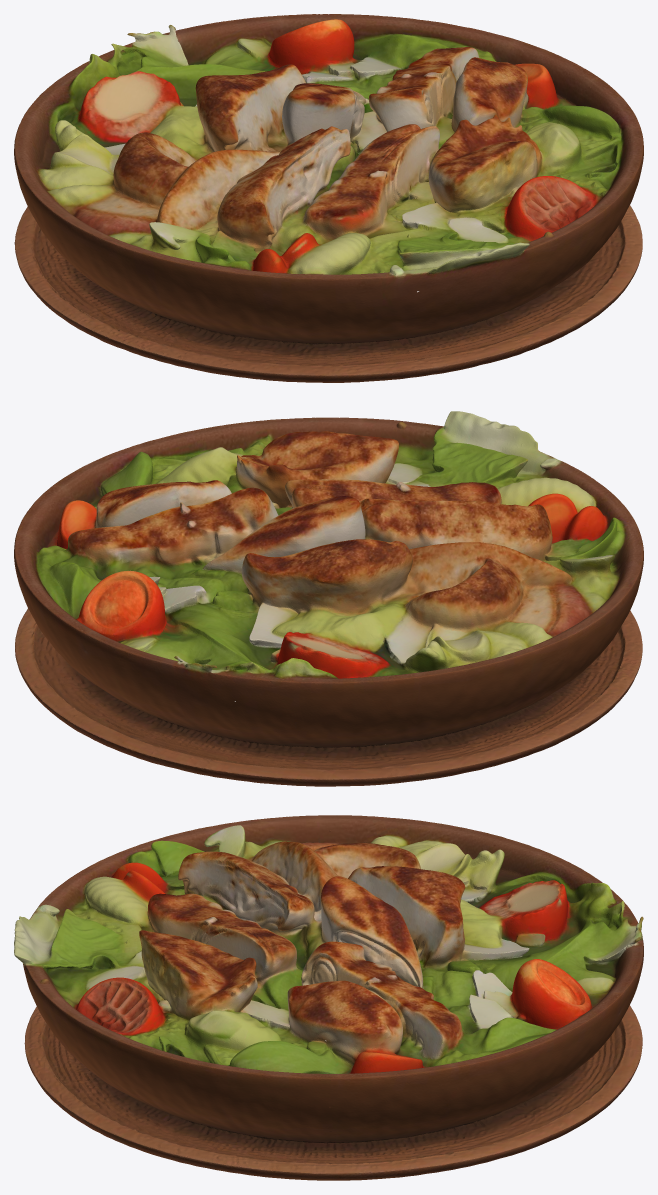
The model's file is salade2-v1.glb.
3 renders of one model, top to bottom at view 1: azimuth 30°, elevation 25°; view 2: azimuth 150°, elevation 25°; view 3: azimuth 270°, elevation 25°, orthographic.
Visible parts, largest first — view 1: tripo_node_12741d1a-41b5-4561-9d0e-88286334f429; view 2: tripo_node_12741d1a-41b5-4561-9d0e-88286334f429; view 3: tripo_node_12741d1a-41b5-4561-9d0e-88286334f429.
Part boxes in pixels (box(x1,y1,x2,y2)): tripo_node_12741d1a-41b5-4561-9d0e-88286334f429: box(14, 14, 643, 382); tripo_node_12741d1a-41b5-4561-9d0e-88286334f429: box(14, 411, 643, 786); tripo_node_12741d1a-41b5-4561-9d0e-88286334f429: box(14, 815, 643, 1180).
Size of the model in its own units: 0.9881 by 0.3046 by 0.9964.
1 material, 1 textured.
